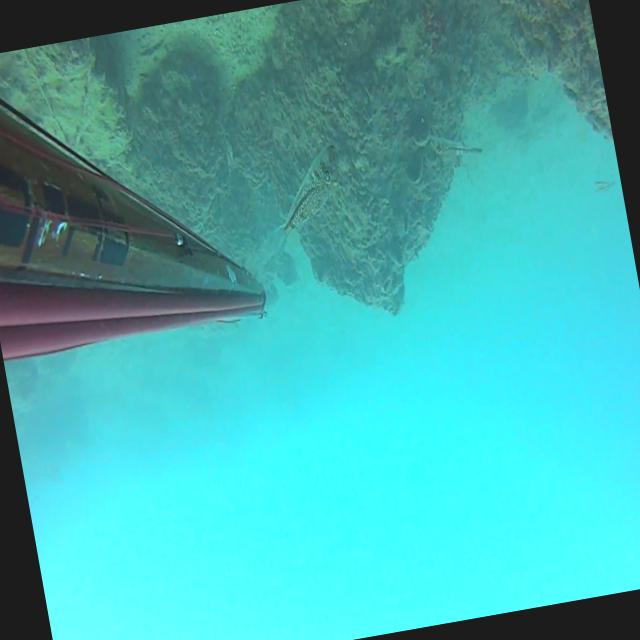Balon Baligi: (246, 141, 353, 265), (426, 126, 482, 163), (333, 0, 395, 9), (592, 178, 614, 194)
